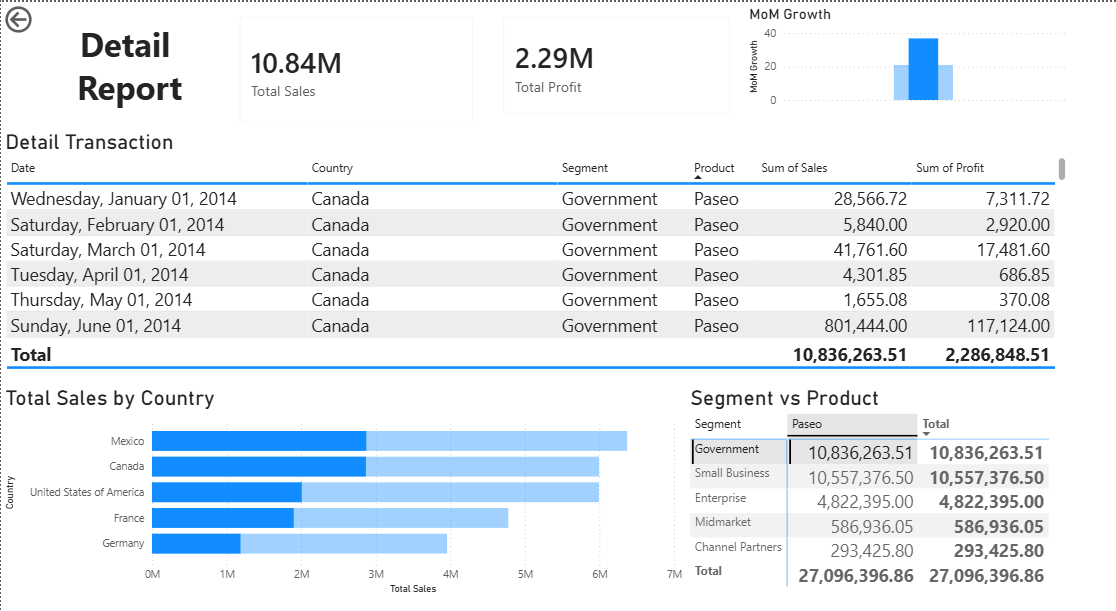

The page's visual inventory and layout, read from the dashboard file:
{"tool":"powerbi","page":{"name":"Detail Report","canvas":[1280,720],"ordinal":1},"visuals":[{"type":"actionButton","box":[0,0,100,40],"z":0},{"type":"cardVisual","fields":{"Data":["financials.Total Sales"]},"box":[255,0,301.7,156.7],"z":1000},{"type":"cardVisual","fields":{"Data":["financials.Total Profit"]},"box":[556.7,0,293.3,145],"z":2000},{"type":"clusteredColumnChart","fields":{"Y":["financials.MoM Growth"]},"box":[850,3.3,371.7,123.3],"z":3000},{"type":"tableEx","title":"Detail Transaction","fields":{"Values":["financials.Date.Variation.Date Hierarchy.Year","financials.Country","financials.Segment","financials.Product","Sum(financials. Sales)","Sum(financials.Profit)"]},"box":[0,145,1221.7,278.3],"z":4000},{"type":"pivotTable","title":"Segment vs Product","fields":{"Values":["financials.Total Sales"],"Rows":["financials.Segment"],"Columns":["financials.Product"]},"box":[783.3,438.3,420,243.3],"z":5000},{"type":"barChart","fields":{"Category":["financials.Country"],"Y":["financials.Total Sales"]},"box":[0,438.3,783.3,243.3],"z":6000},{"type":"textbox","box":[38.3,0,216.7,145],"z":6001}]}

Visuals, with their boxes in screenshot pixels (x1, y1, x2, y2), scaled from the page's 1280x720 canvas onto the 1116x611 screenshot:
actionButton: {"left": 0, "top": 0, "right": 87, "bottom": 34}
cardVisual - financials.Total Sales: {"left": 222, "top": 0, "right": 485, "bottom": 133}
cardVisual - financials.Total Profit: {"left": 485, "top": 0, "right": 741, "bottom": 123}
clusteredColumnChart - financials.MoM Growth: {"left": 741, "top": 3, "right": 1065, "bottom": 107}
"Detail Transaction" tableEx: {"left": 0, "top": 123, "right": 1065, "bottom": 359}
"Segment vs Product" pivotTable: {"left": 683, "top": 372, "right": 1049, "bottom": 578}
barChart - financials.Country x financials.Total Sales: {"left": 0, "top": 372, "right": 683, "bottom": 578}
textbox: {"left": 33, "top": 0, "right": 222, "bottom": 123}
